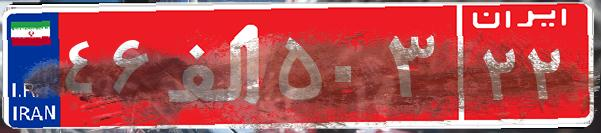0: (330, 28, 385, 110)
2: (475, 38, 525, 113), (525, 38, 570, 115)
3: (385, 28, 445, 110)
4: (57, 26, 110, 107)
5: (273, 28, 330, 110)
6: (110, 28, 158, 105)
الف: (158, 15, 273, 115)
